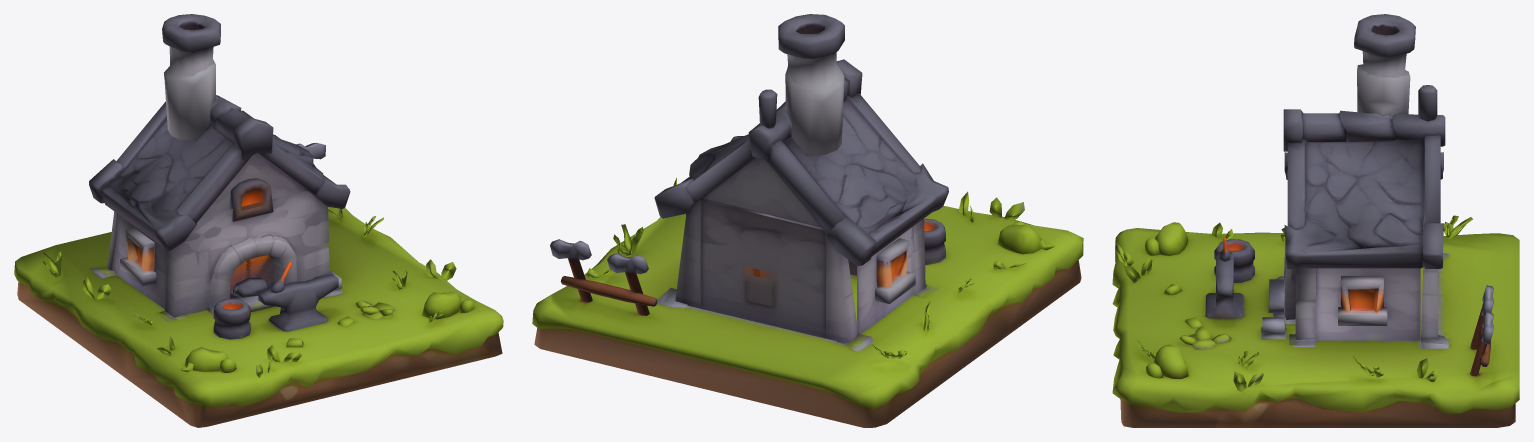
Rendered from herreria_2.glb.
3 renders of one model, left to right at view 1: azimuth 30°, elevation 25°; view 2: azimuth 150°, elevation 25°; view 3: azimuth 270°, elevation 25°, orthographic. The views are drawn at different scales.
Visible parts, largest first — view 1: tripo_node_d892ba52-efc6-4188-8d76-862efff48064; view 2: tripo_node_d892ba52-efc6-4188-8d76-862efff48064; view 3: tripo_node_d892ba52-efc6-4188-8d76-862efff48064.
Part boxes in pixels (bbox=[...]): tripo_node_d892ba52-efc6-4188-8d76-862efff48064: bbox=[14, 14, 503, 427]; tripo_node_d892ba52-efc6-4188-8d76-862efff48064: bbox=[532, 14, 1083, 427]; tripo_node_d892ba52-efc6-4188-8d76-862efff48064: bbox=[1112, 14, 1519, 427].
Size of the model in its own units: 0.9629 by 0.8223 by 0.998.
Materials: 1 (1 with a texture image).
